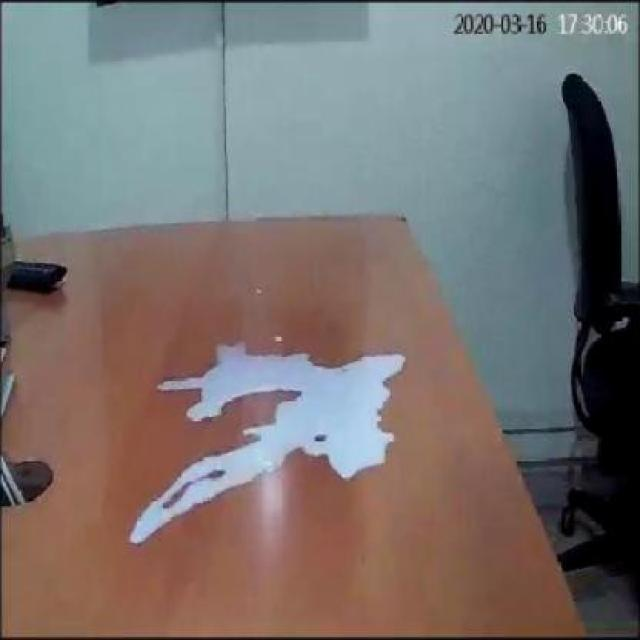spillage: (129, 345, 406, 545)
